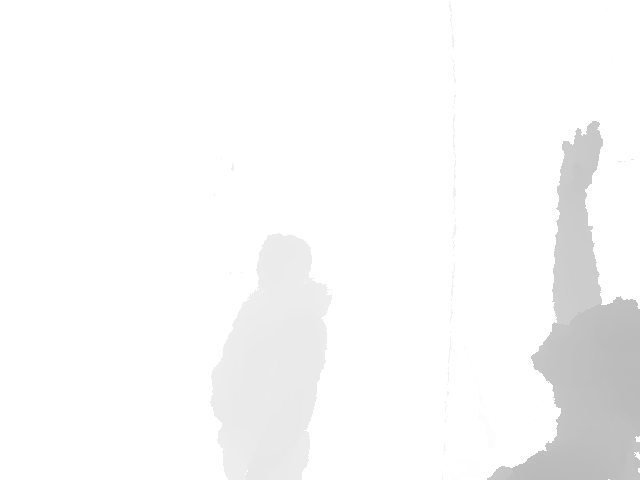hand: (561, 120, 604, 192)
head: (531, 297, 640, 415), (256, 234, 312, 300)
person: (484, 120, 640, 480), (209, 234, 333, 480)
